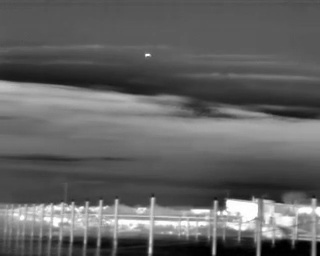BIRD: (143, 50, 153, 60)
